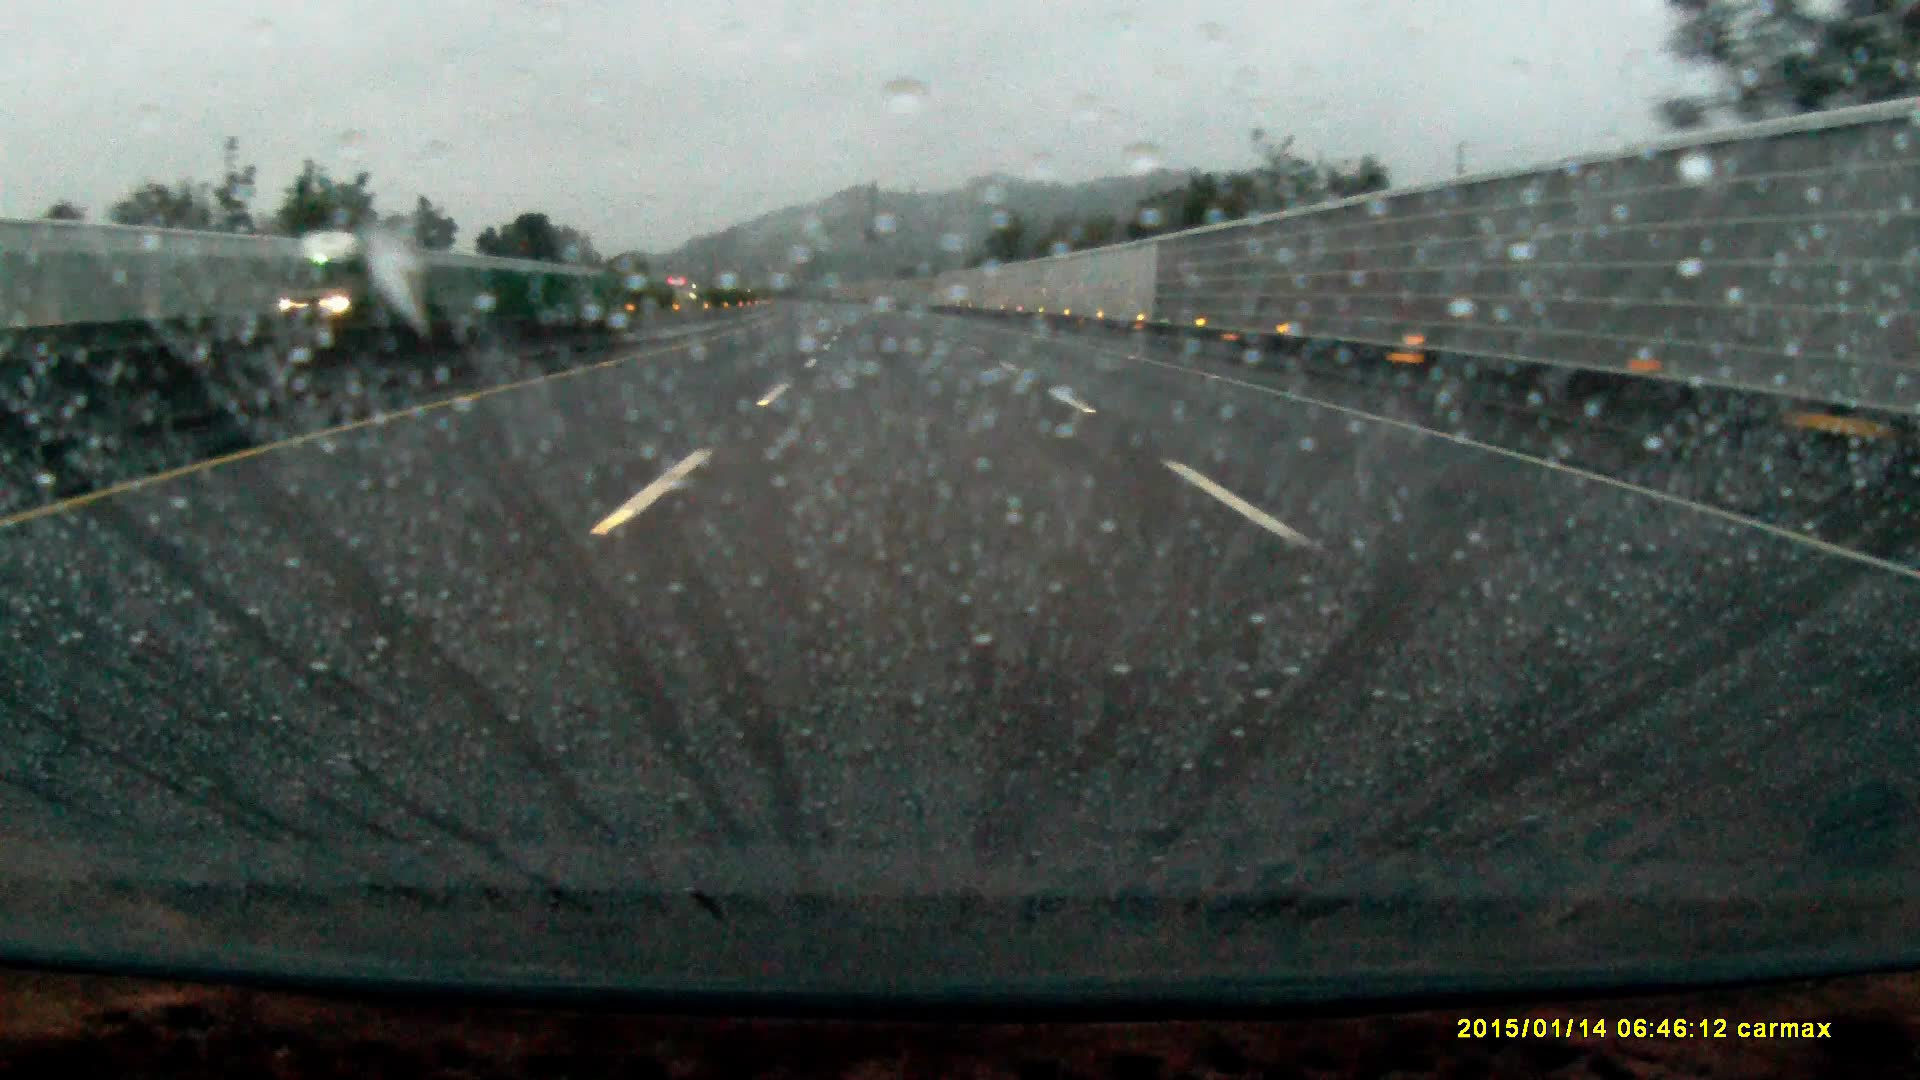vehicle: (289, 225, 414, 327)
